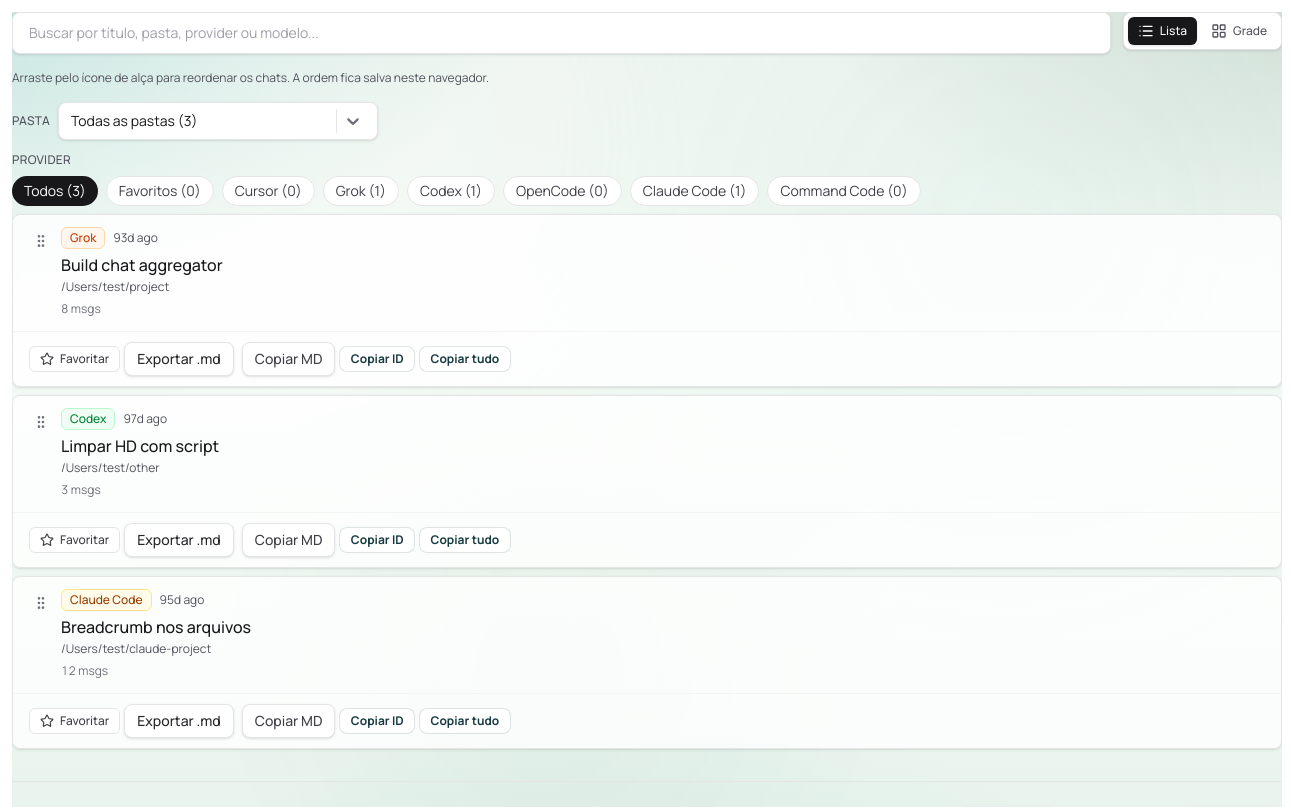
Test: ChatList › favorites a chat instantly without refetch, then filters favorites
Click the button with aria-label "Adicionar aos favoritos" at x=75, y=359, box left=29, top=346, right=120, bottom=372
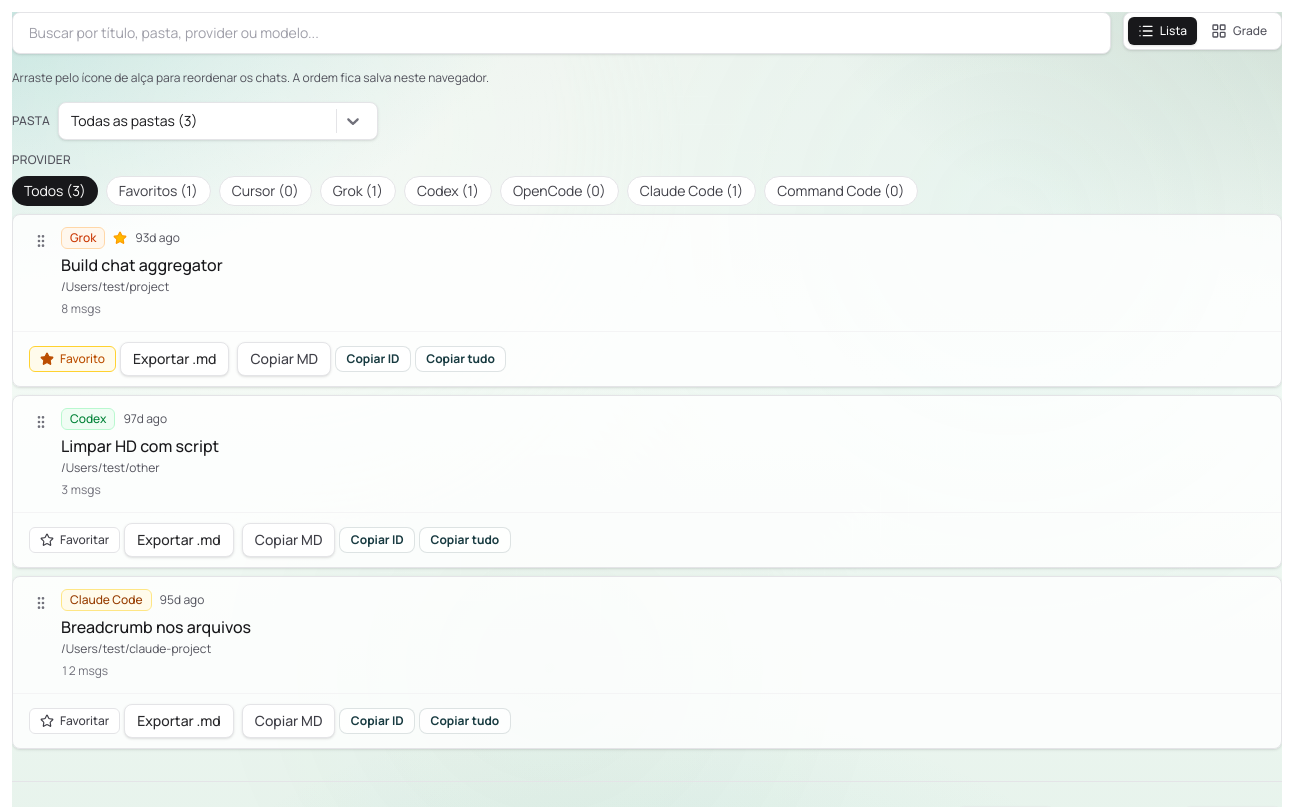
Now the button with aria-label "Remover dos favoritos" is shown, box left=29, top=346, right=116, bottom=372
Click the button "Favoritos (1)" at x=158, y=191, box left=106, top=176, right=211, bottom=206
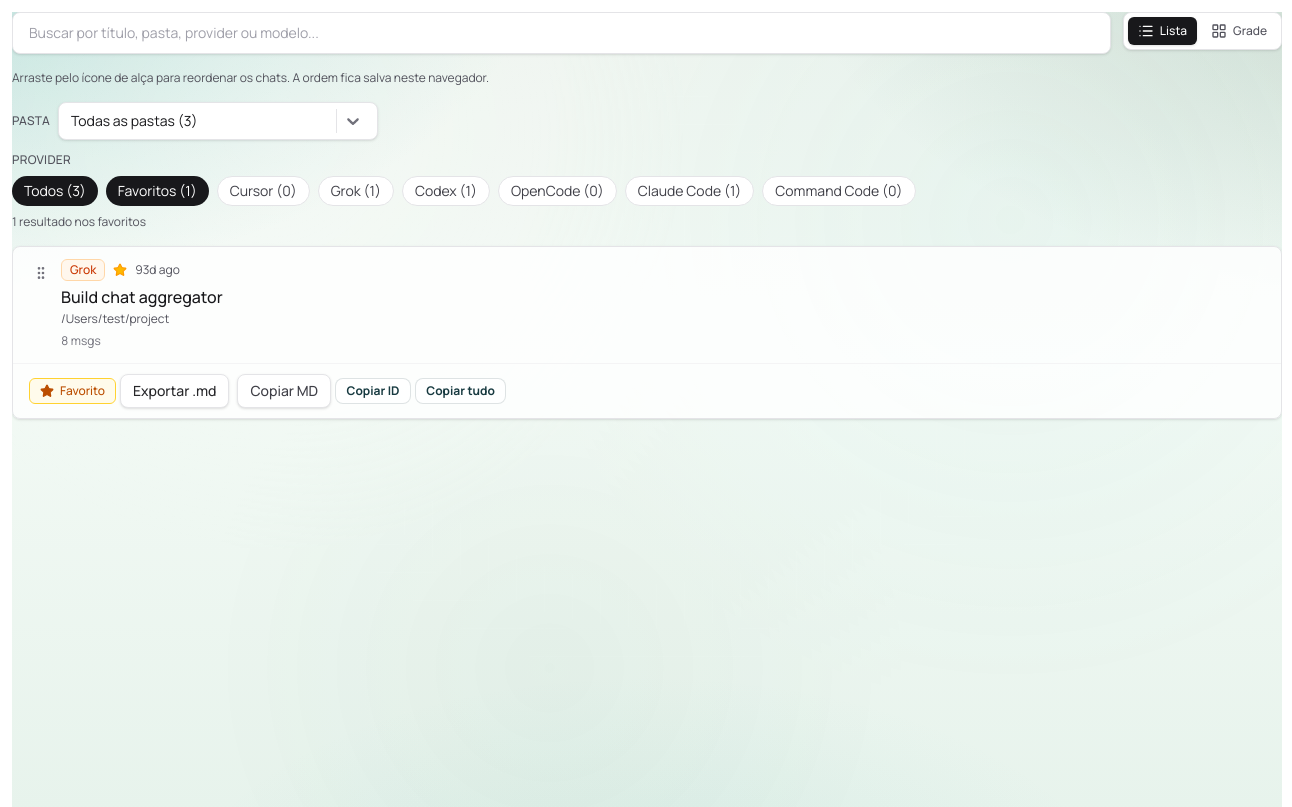
Expected: the text "Build chat aggregator" is shown, left=61, top=285, right=223, bottom=309
Now the link "Limpar HD com script" is gone
Now the text "1 resultado nos favoritos" is shown, box left=12, top=213, right=146, bottom=230
